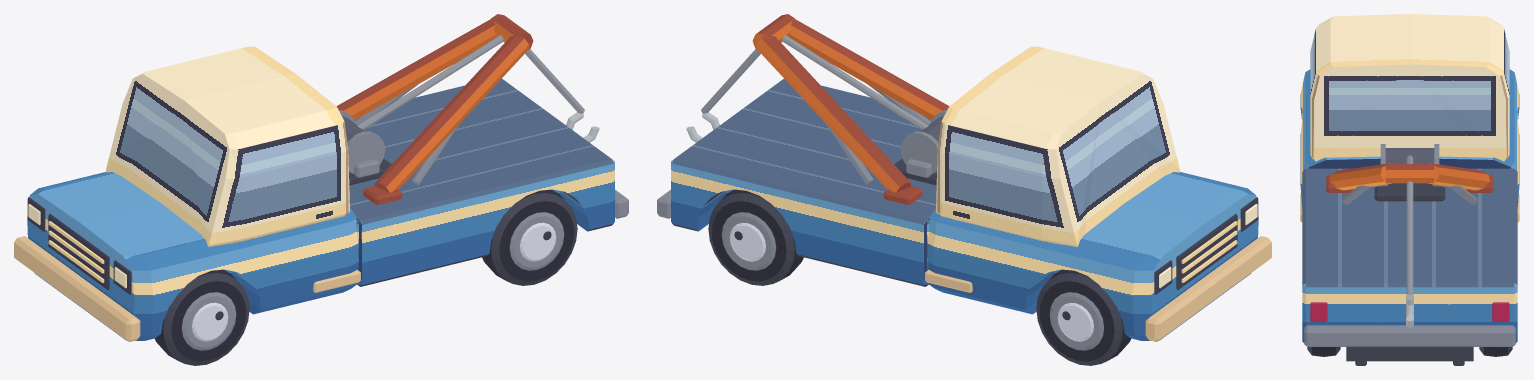
The model's file is tow-truck-v1.glb.
3 views of the same model, side by side, from view 1: azimuth 30°, elevation 25°; view 2: azimuth 150°, elevation 25°; view 3: azimuth 270°, elevation 25° (orthographic). The views are drawn at different scales.
Visible parts, largest first — view 1: Body_static, Wheel_RL_tire_hub, Wheel_FL_tire_hub; view 2: Body_static, Wheel_RR_tire_hub, Wheel_FR_tire_hub; view 3: Body_static, Wheel_RL_tire_hub, Wheel_RR_tire_hub.
Part boxes in pixels (x1,y1,x2,y2): Body_static: [14, 14, 628, 341]; Wheel_RL_tire_hub: [482, 189, 577, 285]; Wheel_FL_tire_hub: [154, 269, 249, 365]; Body_static: [657, 14, 1271, 341]; Wheel_RR_tire_hub: [708, 189, 803, 285]; Wheel_FR_tire_hub: [1036, 269, 1131, 365]; Body_static: [1300, 14, 1519, 365]; Wheel_RL_tire_hub: [1307, 347, 1340, 356]; Wheel_RR_tire_hub: [1479, 347, 1512, 356].
Size of the model in its own units: 101 by 40 by 38.96.
1 material, 1 textured.
